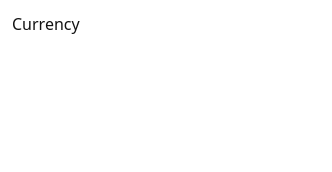
Test case: Dropdown › opens on click, calls onSelect and closes
Expected: the menu item "USD" is not shown
Click the button "Currency" at (46, 24), box [12,12,80,36]
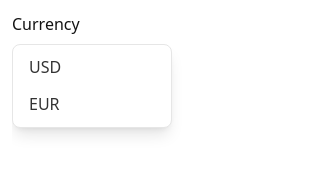
Click the menu item "USD" at (92, 67), box [17,49,167,86]
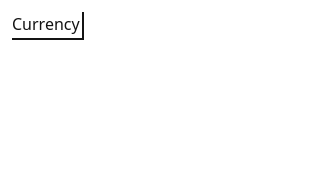
Result: the menu item "EUR" is gone
